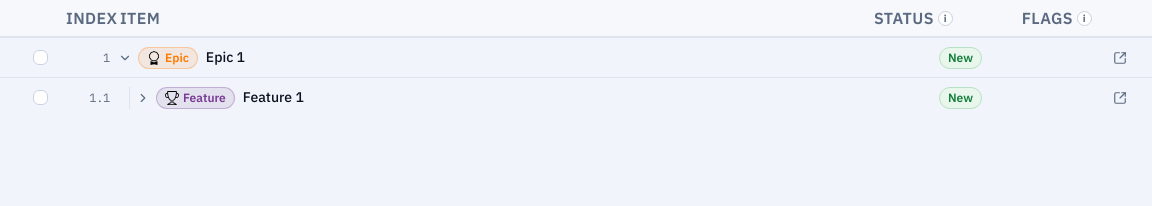
DiffTree › shows a review chip on a flagged entry, not on a healthy one
// Feature 1 starts collapsed (see the test above) -- expand it to reach the Requirements.
Click the button named "expand feature 1" at (143, 98), box [134,88,152,106]
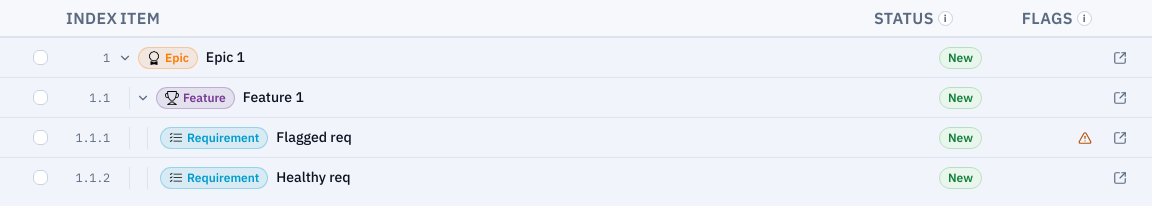
Expected: the element titled "low grounding" is shown, [1078,130,1092,144]
